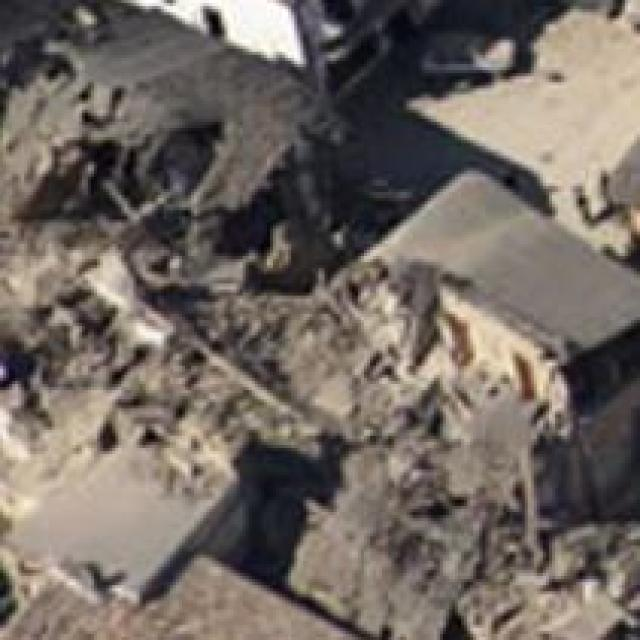collapsed_building: (0, 0, 285, 570), (294, 198, 637, 573)
